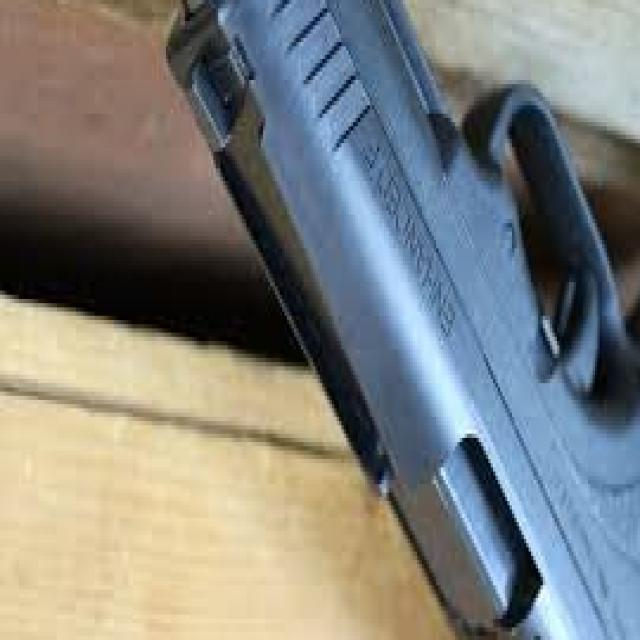Gun: (152, 0, 640, 640)
